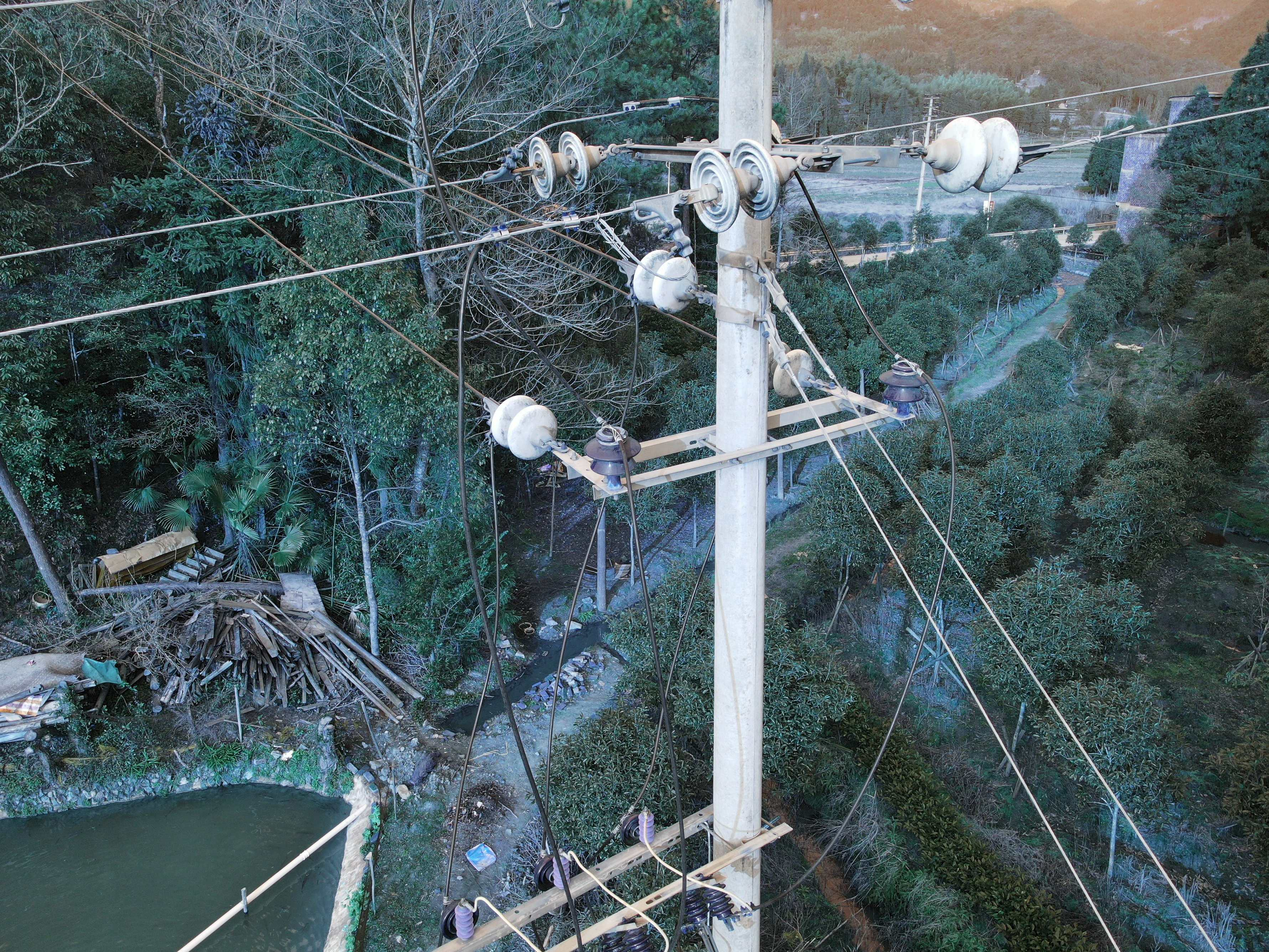severe_soiling_no_discharge_whole: (689, 139, 797, 231), (924, 116, 1021, 192), (527, 130, 607, 201), (487, 395, 560, 459), (632, 249, 702, 315), (586, 425, 642, 476), (877, 359, 930, 406), (773, 348, 817, 400)
